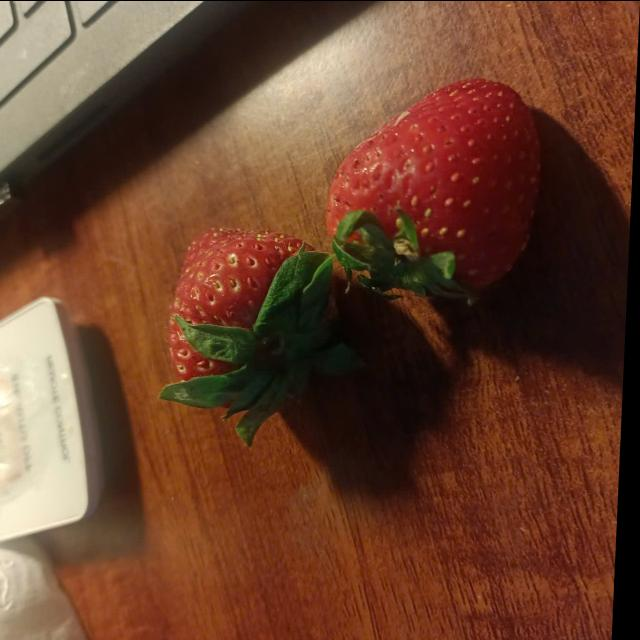DauTay: (307, 72, 563, 335), (132, 207, 374, 462)
